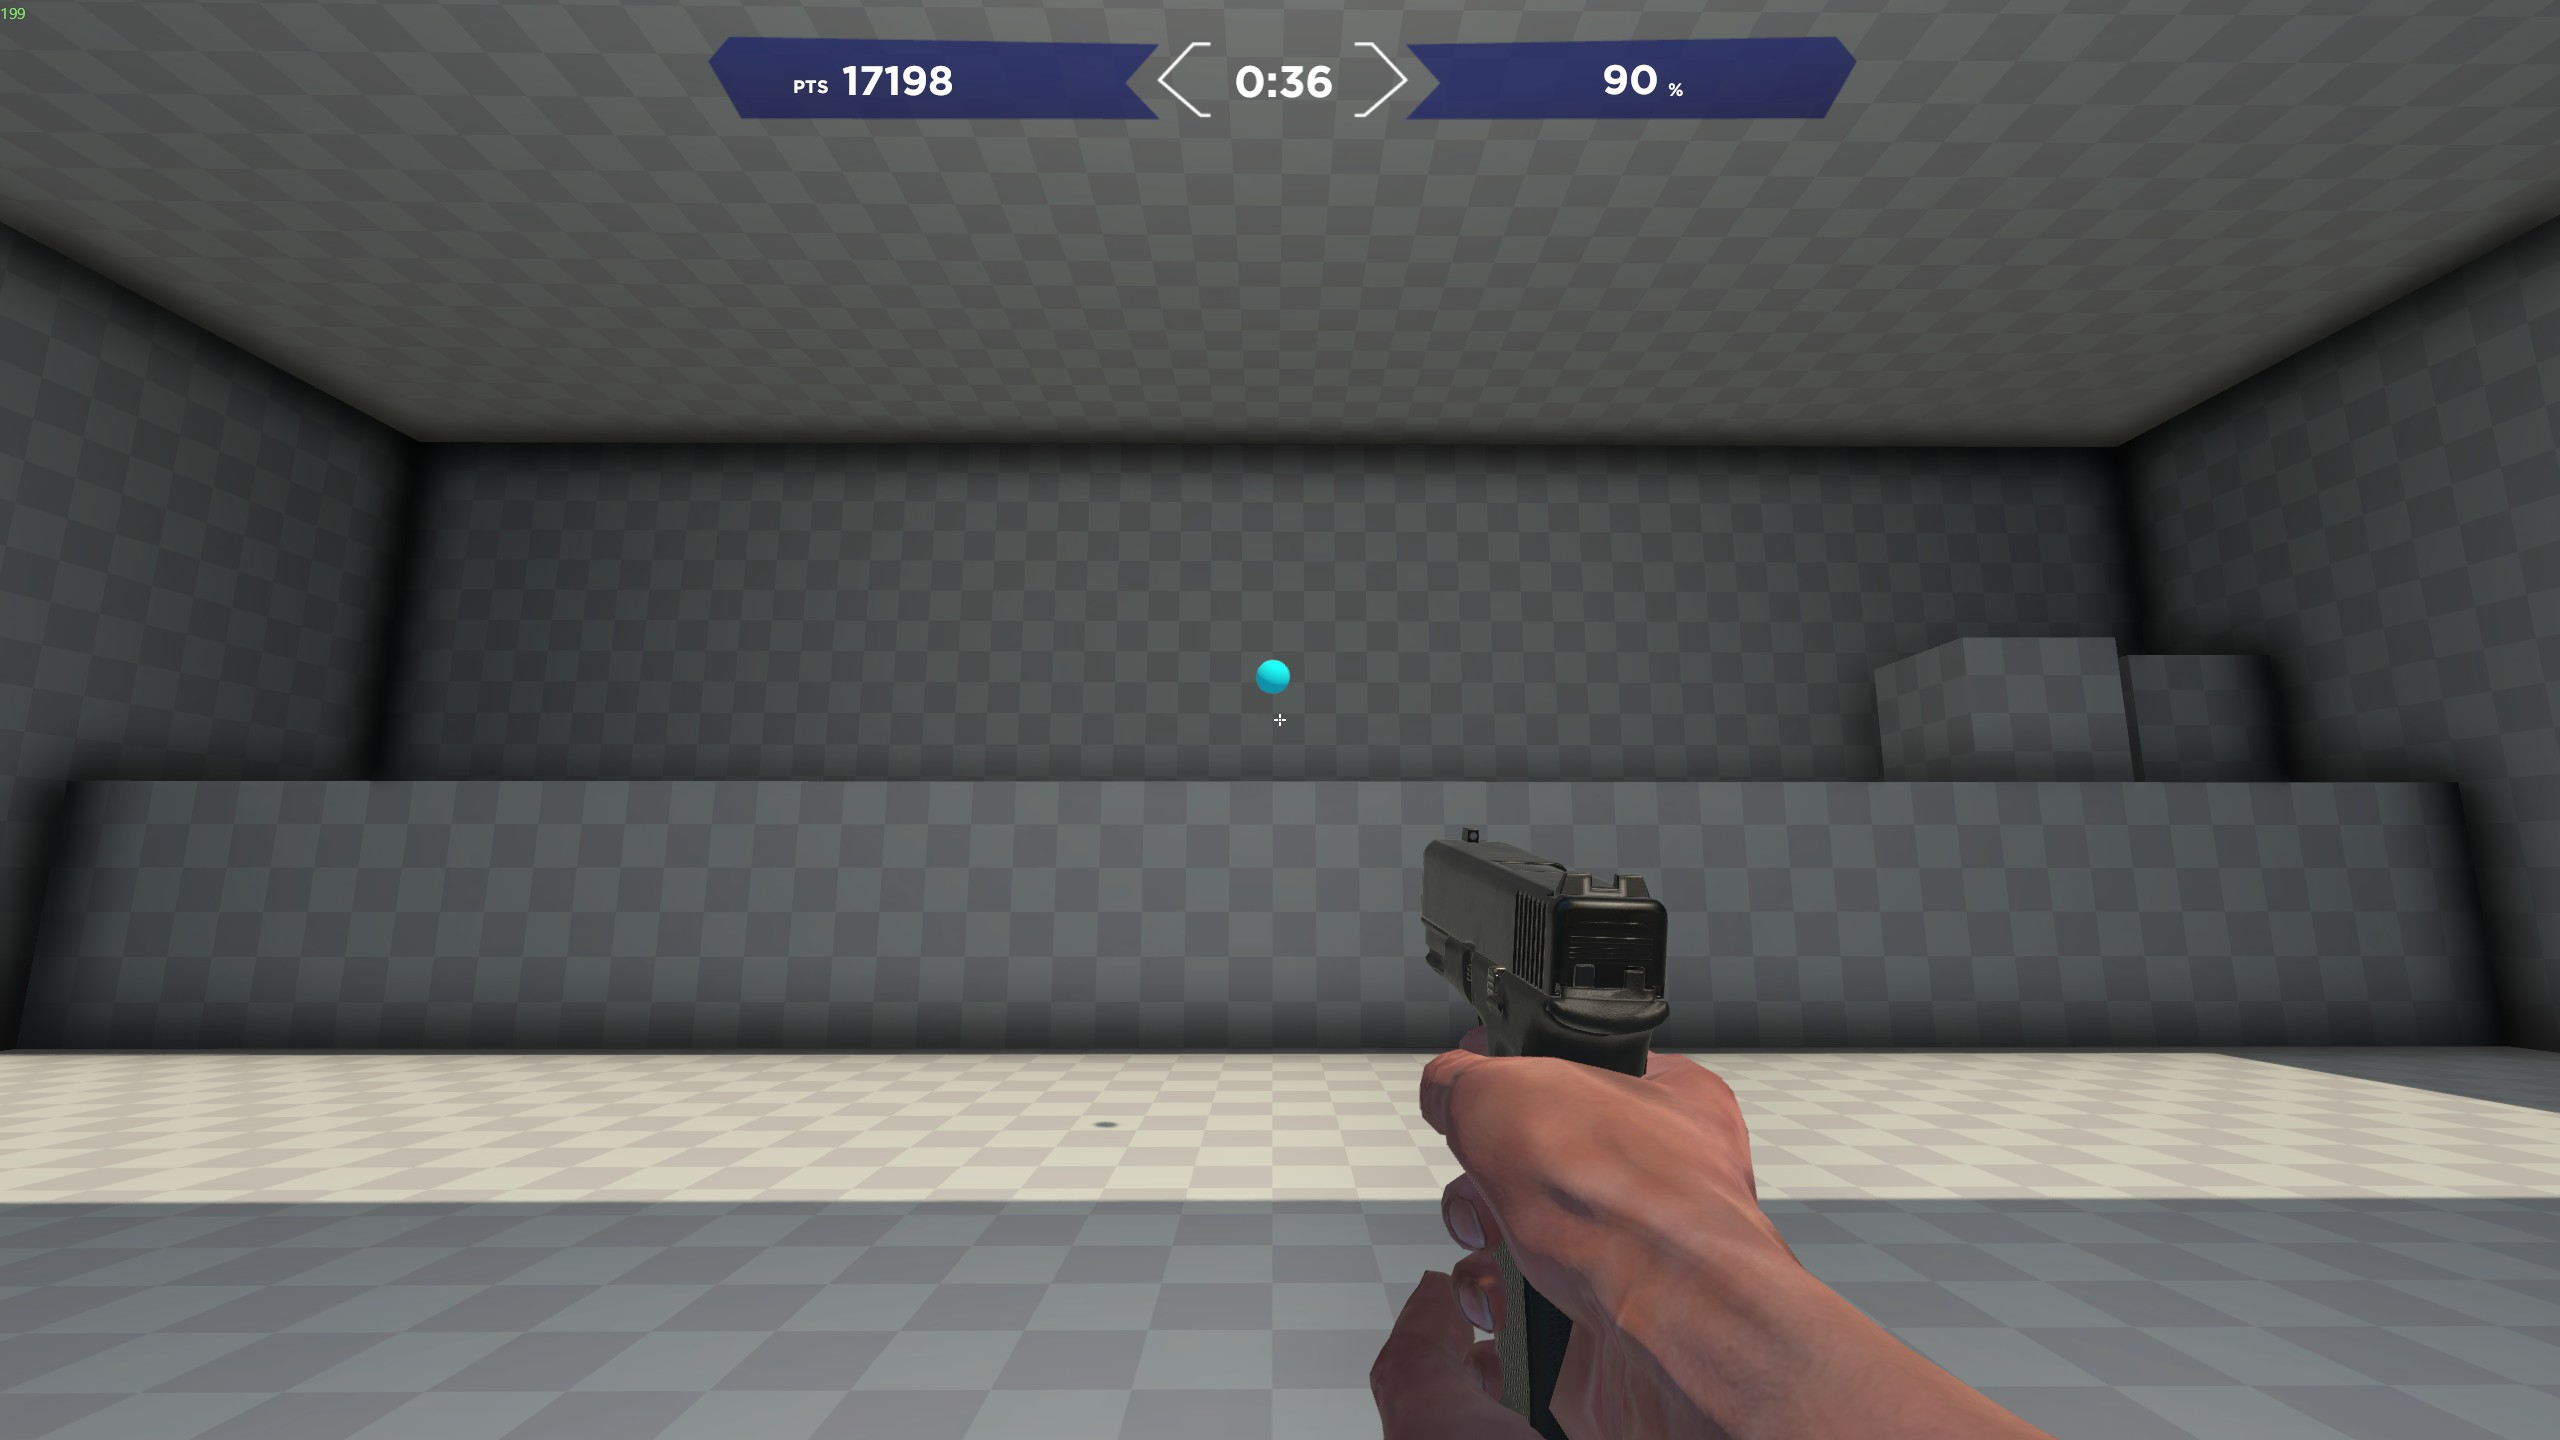Target: (1238, 651, 1305, 696)
